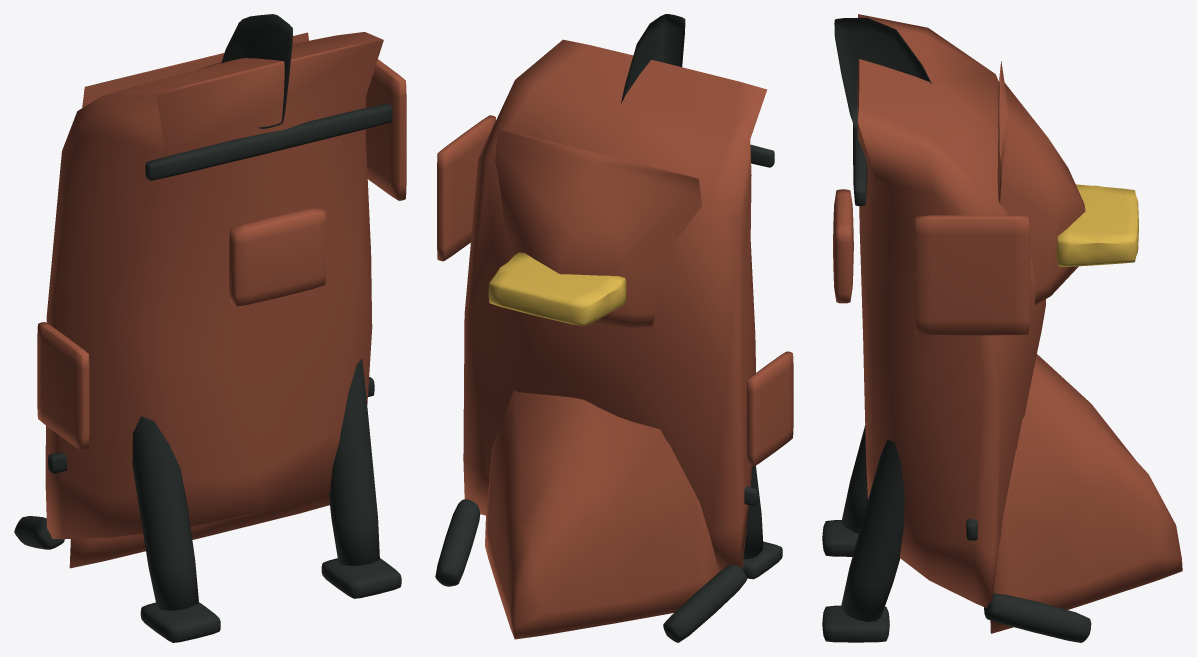
The model's file is enemy_chaser.glb.
3 renders of one model, left to right at view 1: azimuth 30°, elevation 25°; view 2: azimuth 150°, elevation 25°; view 3: azimuth 270°, elevation 25°, orthographic. The views are drawn at different scales.
Parts seen in each view (by area): view 1: ChaserBody, ChaserClaws, ChaserFin; view 2: ChaserBody, ChaserClaws, ChaserFin; view 3: ChaserBody, ChaserClaws, ChaserFin.
Part boxes in pixels (bbox=[...]): ChaserBody: bbox=[37, 32, 406, 568]; ChaserClaws: bbox=[14, 358, 401, 642]; ChaserFin: bbox=[221, 14, 292, 128]; ChaserBody: bbox=[437, 39, 793, 639]; ChaserClaws: bbox=[435, 465, 782, 642]; ChaserFin: bbox=[621, 14, 685, 103]; ChaserBody: bbox=[833, 14, 1182, 633]; ChaserClaws: bbox=[822, 425, 1091, 642]; ChaserFin: bbox=[834, 17, 931, 128].
Size of the model in its own units: 1.78 by 2.98 by 1.71.
